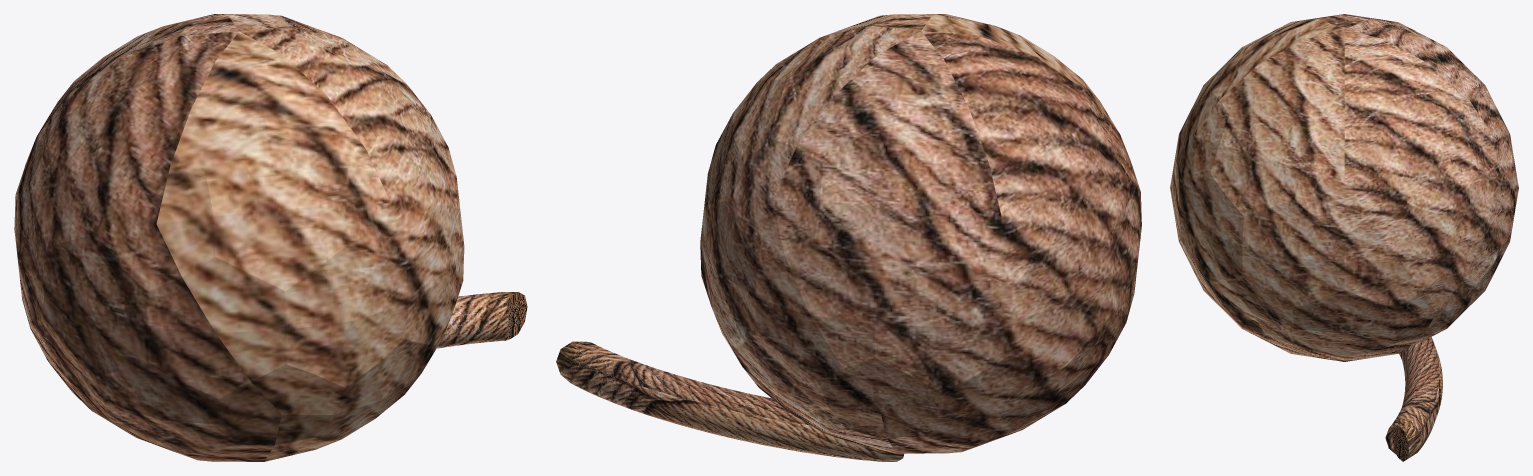
File: bola_estambre 1.fbx
3 renders of one model, left to right at view 1: azimuth 30°, elevation 25°; view 2: azimuth 150°, elevation 25°; view 3: azimuth 270°, elevation 25°, orthographic. The views are drawn at different scales.
Visible parts, largest first — view 1: Esfera geodésica, Curva_NURBS; view 2: Esfera geodésica, Curva_NURBS; view 3: Esfera geodésica, Curva_NURBS.
Part boxes in pixels (<box>): Esfera geodésica: <box>14,14,464,461</box>; Curva_NURBS: <box>437,292,527,348</box>; Esfera geodésica: <box>700,14,1141,453</box>; Curva_NURBS: <box>556,341,903,461</box>; Esfera geodésica: <box>1170,14,1518,361</box>; Curva_NURBS: <box>1385,337,1442,461</box>.
Bounding box in the file's own units: 248 × 186 × 185.
